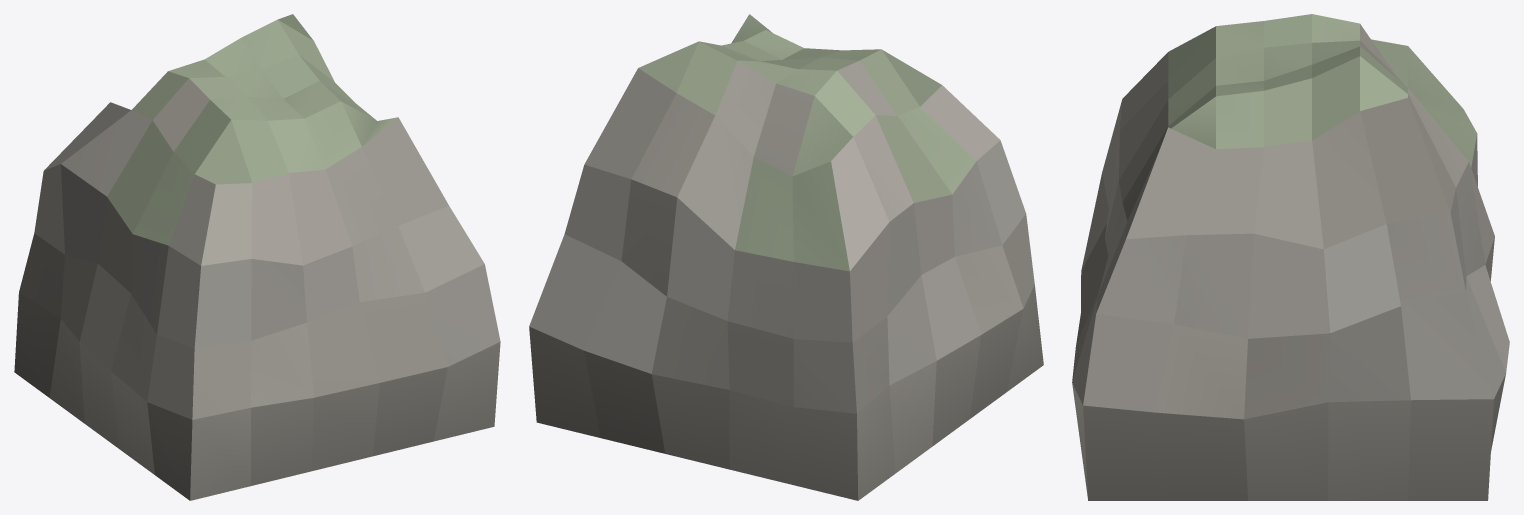
Rendered from roca_suelta_3.glb.
The picture shows the model from 3 angles, left to right: view 1: azimuth 30°, elevation 25°; view 2: azimuth 150°, elevation 25°; view 3: azimuth 270°, elevation 25°; orthographic projection. The views are drawn at different scales.
Visible parts, largest first — view 1: propforge-cuartos-roca_suelta; view 2: propforge-cuartos-roca_suelta; view 3: propforge-cuartos-roca_suelta.
Part boxes in pixels (x1=…): propforge-cuartos-roca_suelta: x1=14, y1=14, x2=500, y2=500; propforge-cuartos-roca_suelta: x1=529, y1=14, x2=1043, y2=500; propforge-cuartos-roca_suelta: x1=1072, y1=14, x2=1509, y2=500.
Size of the model in its own units: 0.8738 by 0.8626 by 0.8758.
